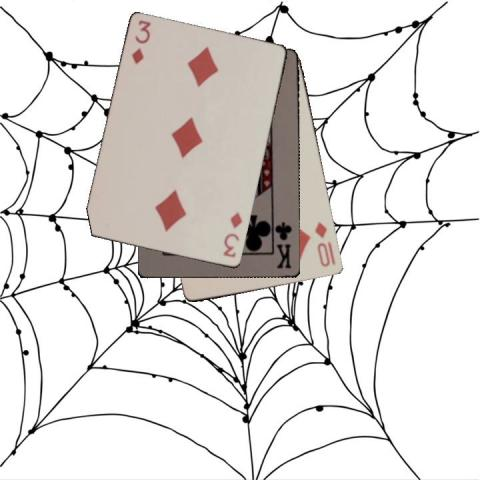10d: (312, 219, 332, 269)
3d: (128, 17, 153, 66), (221, 210, 244, 260)
Kc: (274, 219, 293, 270)
